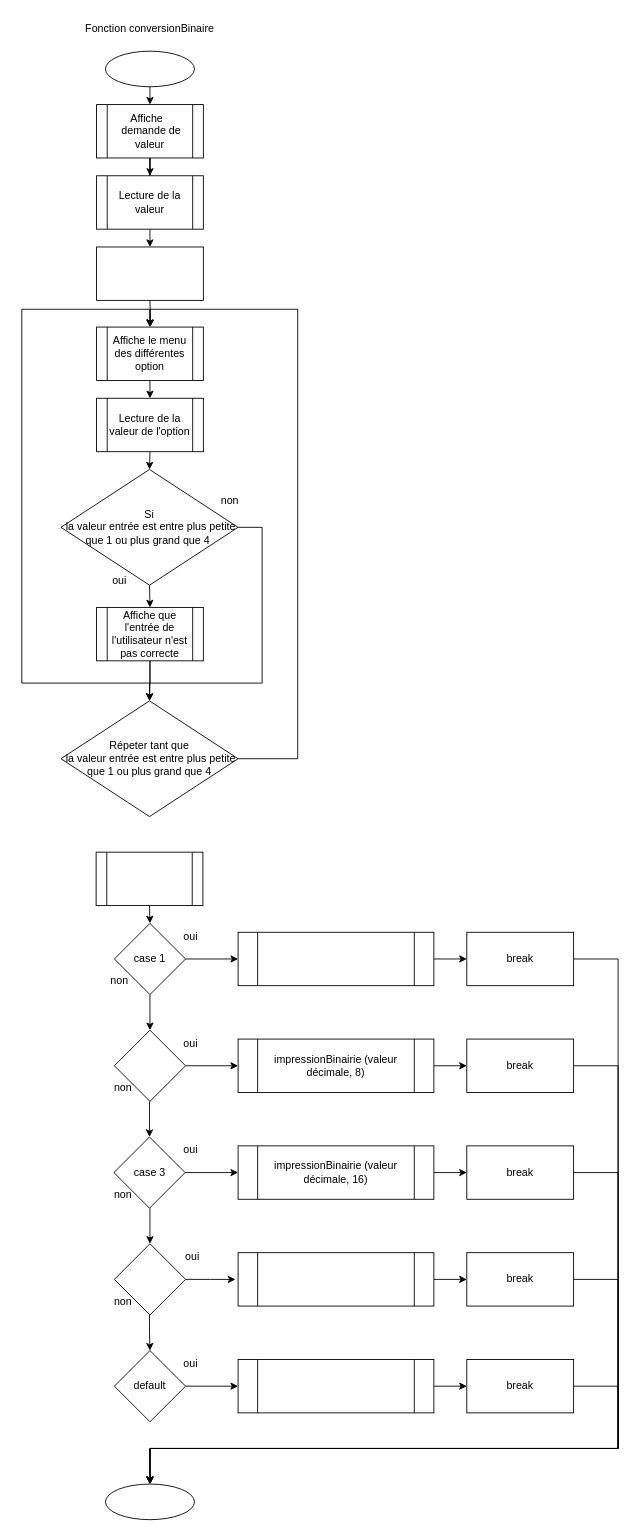
Image size: 641x1535. Some labels were removed from this diagram. The shapes that lost their labels are listed below. From the top down, each one's box as (x1, y1, x2, y2) in pixels, then its label:
(105, 50, 194, 87): Début
(96, 246, 203, 300): Faire
(95, 851, 203, 906): Switch
(237, 931, 434, 986): impressionBinairie (valeur décimale, 0)
(113, 1029, 186, 1101): case 2
(113, 1243, 186, 1315): case 4
(237, 1252, 434, 1306): impressionBinairie (valeur décimale, 32)
(237, 1359, 434, 1413): Affiche option invalide
(105, 1483, 194, 1520): Fin
